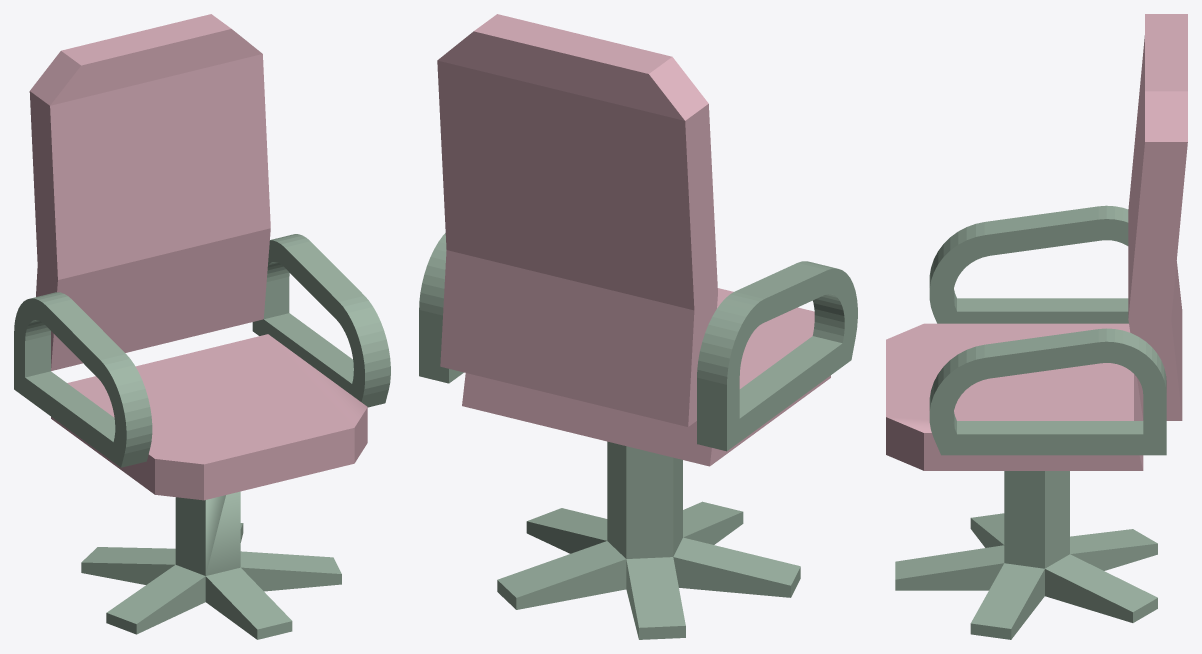
Rendered from chairDesk.glb.
3 views of the same model, side by side, from view 1: azimuth 30°, elevation 25°; view 2: azimuth 150°, elevation 25°; view 3: azimuth 270°, elevation 25° (orthographic). The views are drawn at different scales.
Parts seen in each view (by area): view 1: chair, chairDesk(Clone); view 2: chair, chairDesk(Clone); view 3: chair, chairDesk(Clone).
Part boxes in pixels (x1,y1,x2,y2): chair: (14,14,390,500); chairDesk(Clone): (81,491,341,639); chair: (419,14,857,466); chairDesk(Clone): (497,441,800,639); chair: (886,14,1187,470); chairDesk(Clone): (895,471,1157,639).
Bounding box in the file's own units: 0.335 × 0.6076 × 0.3143.
